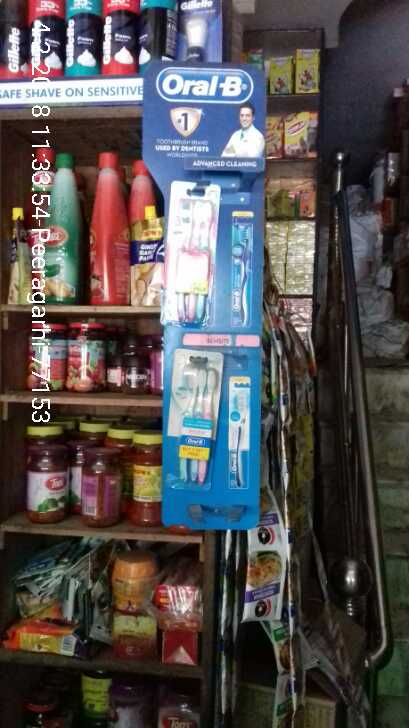oralb: (166, 197, 218, 330), (173, 349, 218, 489)
